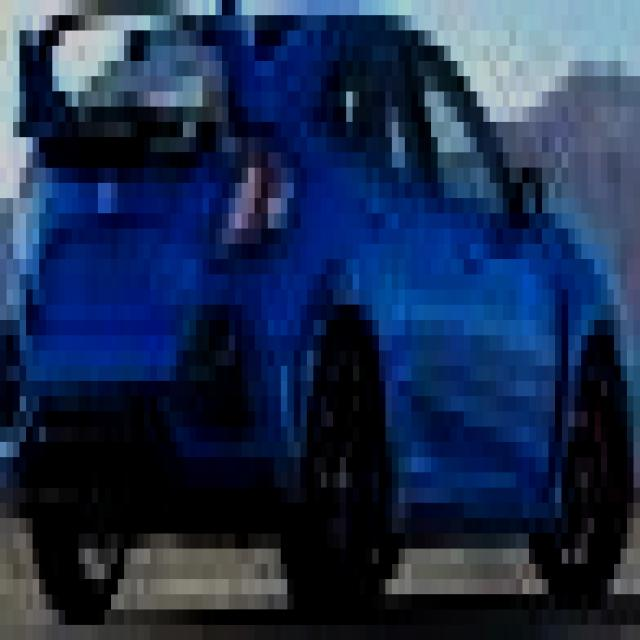blue: (5, 4, 640, 602)
